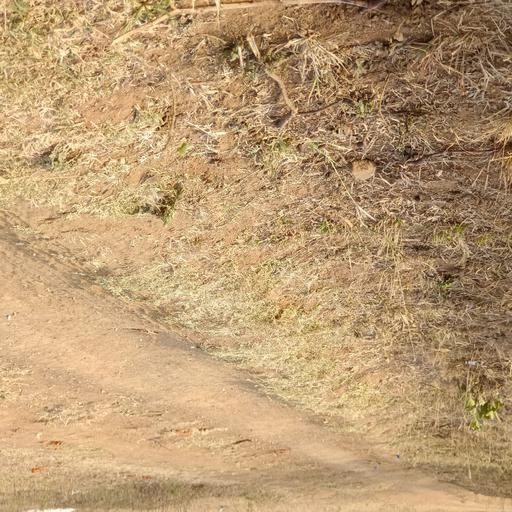vehicle_track: (0, 241, 379, 471)
